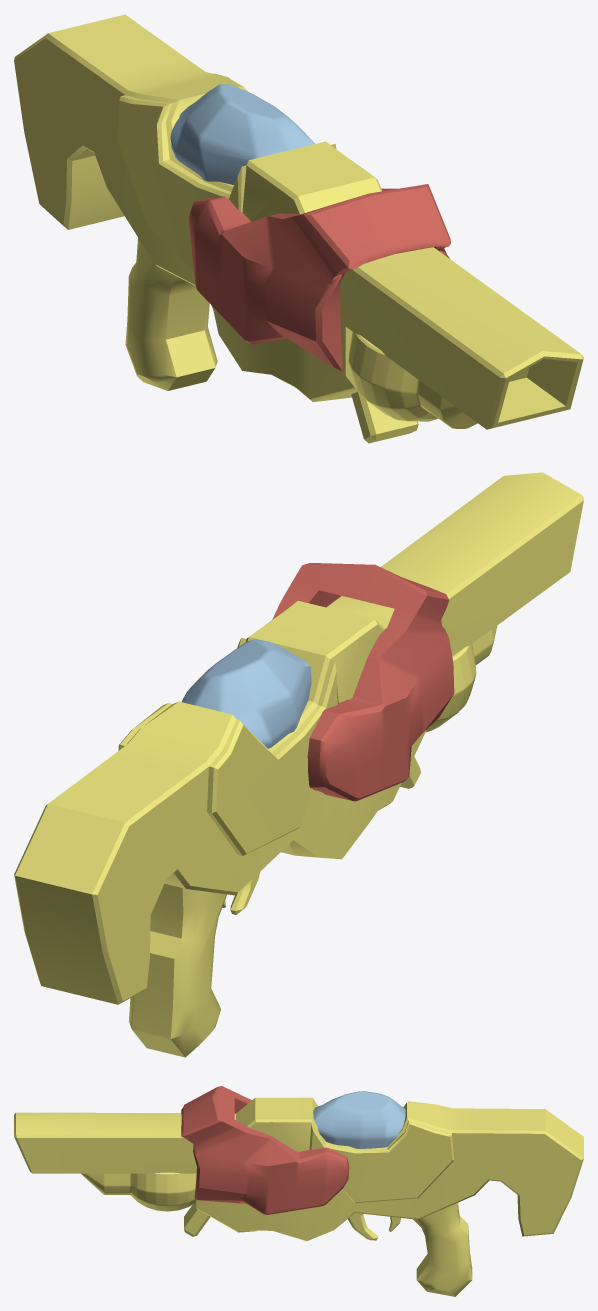
Rendered from SporeGun.fbx.
3 renders of one model, top to bottom at view 1: azimuth 30°, elevation 25°; view 2: azimuth 150°, elevation 25°; view 3: azimuth 270°, elevation 25°, orthographic. The views are drawn at different scales.
Parts seen in each view (by area): view 1: pCube4, pCube5, pCube6, pSphere1, pSphere2, pCube7; view 2: pCube4, pCube5, pCube6, pSphere1, pSphere2; view 3: pCube4, pCube5, pSphere1, pCube6, pSphere2, pCube7, pCube2.
Boxes of the visible parts, <box> form: pCube4: <box>14,14,583,429</box>; pCube5: <box>188,184,450,370</box>; pCube6: <box>125,238,217,390</box>; pSphere1: <box>170,84,315,184</box>; pSphere2: <box>348,332,477,428</box>; pCube7: <box>351,391,418,443</box>; pCube4: <box>14,472,583,1004</box>; pCube5: <box>272,563,454,801</box>; pCube6: <box>128,883,226,1057</box>; pSphere1: <box>181,639,311,748</box>; pSphere2: <box>426,626,497,732</box>; pCube4: <box>14,1097,583,1240</box>; pCube5: <box>181,1086,349,1214</box>; pSphere1: <box>313,1091,405,1148</box>; pCube6: <box>413,1203,472,1296</box>; pSphere2: <box>81,1172,196,1211</box>; pCube7: <box>184,1203,210,1236</box>; pCube2: <box>348,1213,377,1240</box>.
Bounding box in the file's own units: 13.07 × 25.75 × 67.73.
